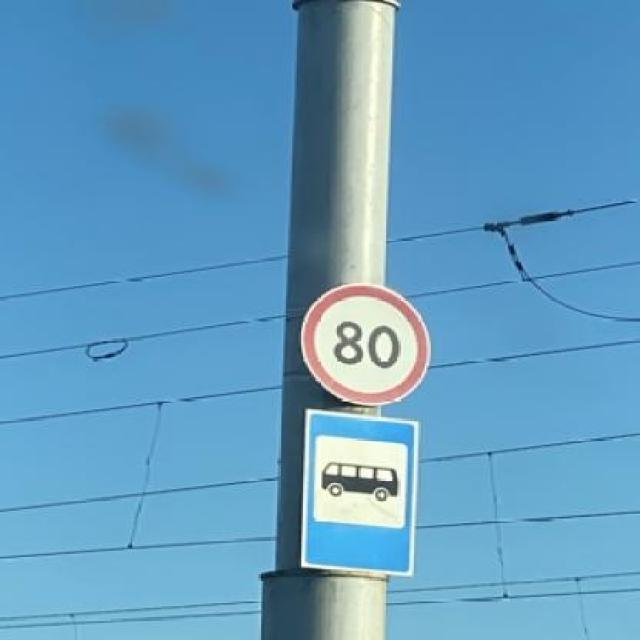forb_speed_over_80: (306, 282, 429, 403)
